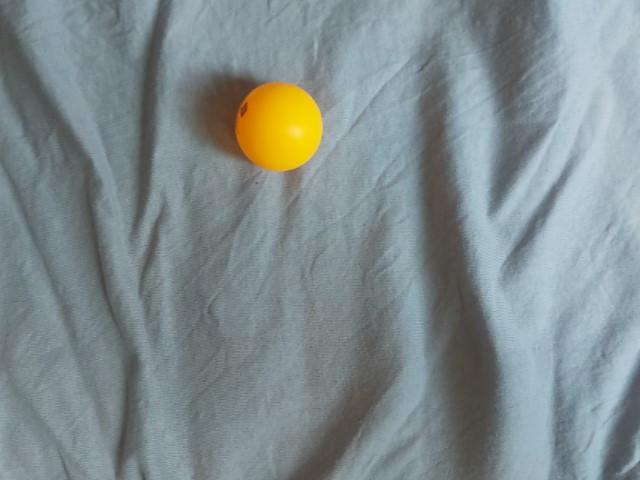oball: (308, 306, 411, 406)
